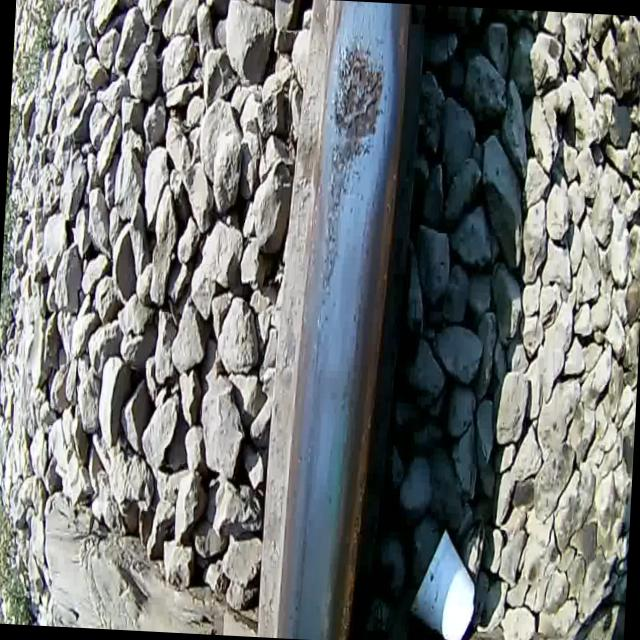Spallings: (329, 38, 388, 168)
Squats: (303, 9, 392, 300)
